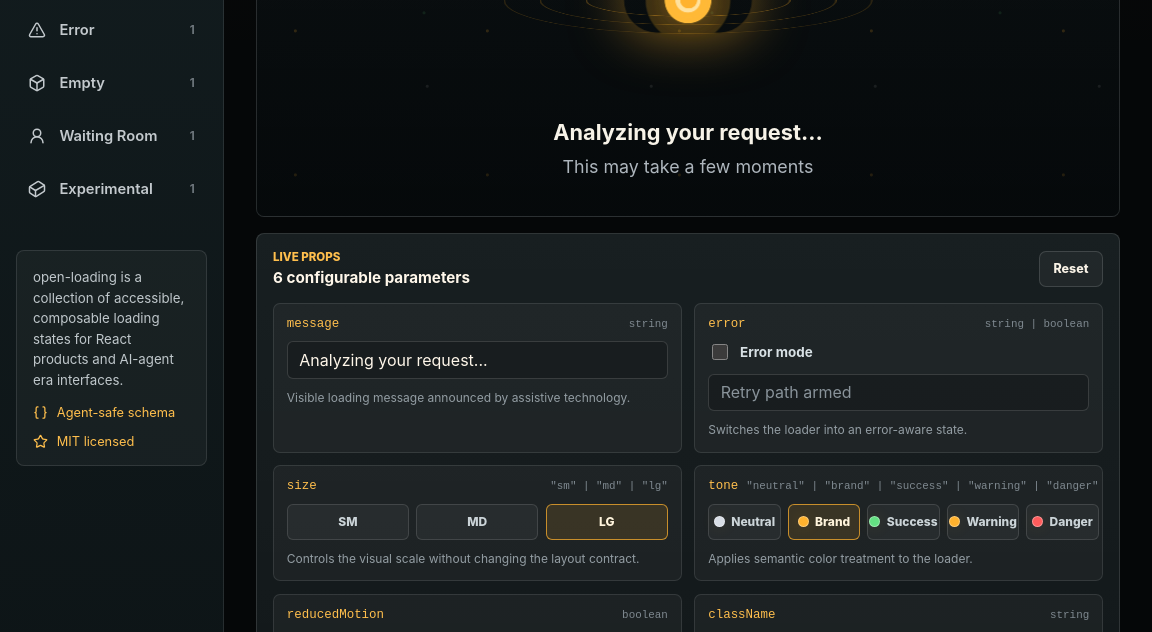
Scenario: gallery app › updates the preview message live
The image size is (1152, 632).
(page scrolled)
Type "Crunching tokens" into the field labelled "message" at (477, 360), box [287,341,668,379]
(page scrolled)
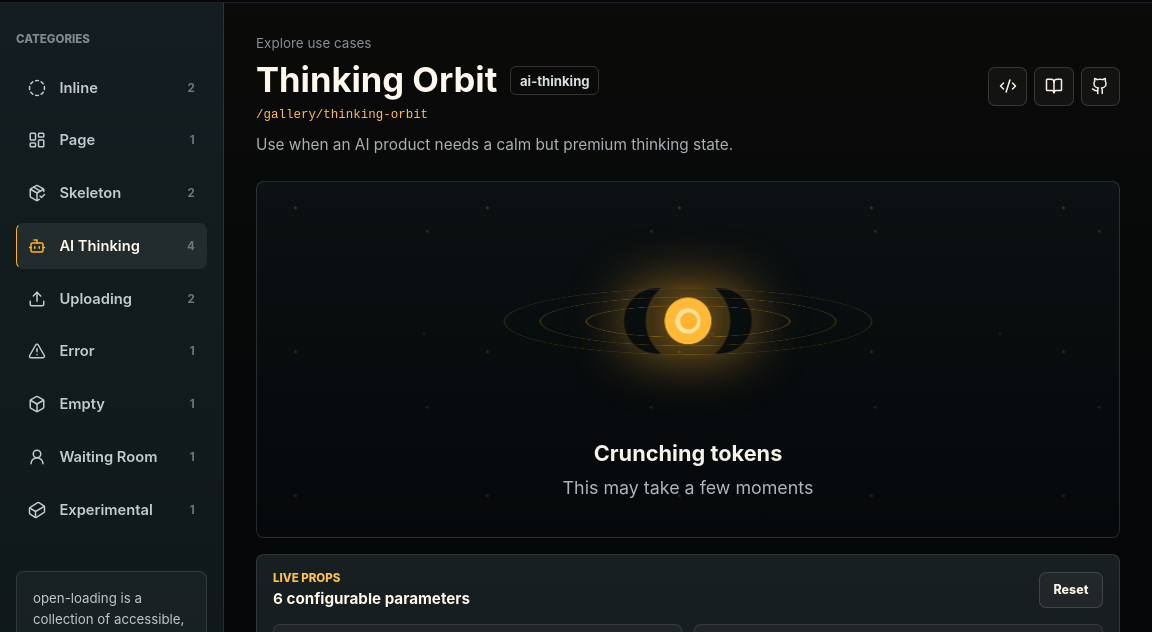
expect the message named "Thinking Orbit loading state" shows "Crunching tokens": met, box [594,440,782,466]
